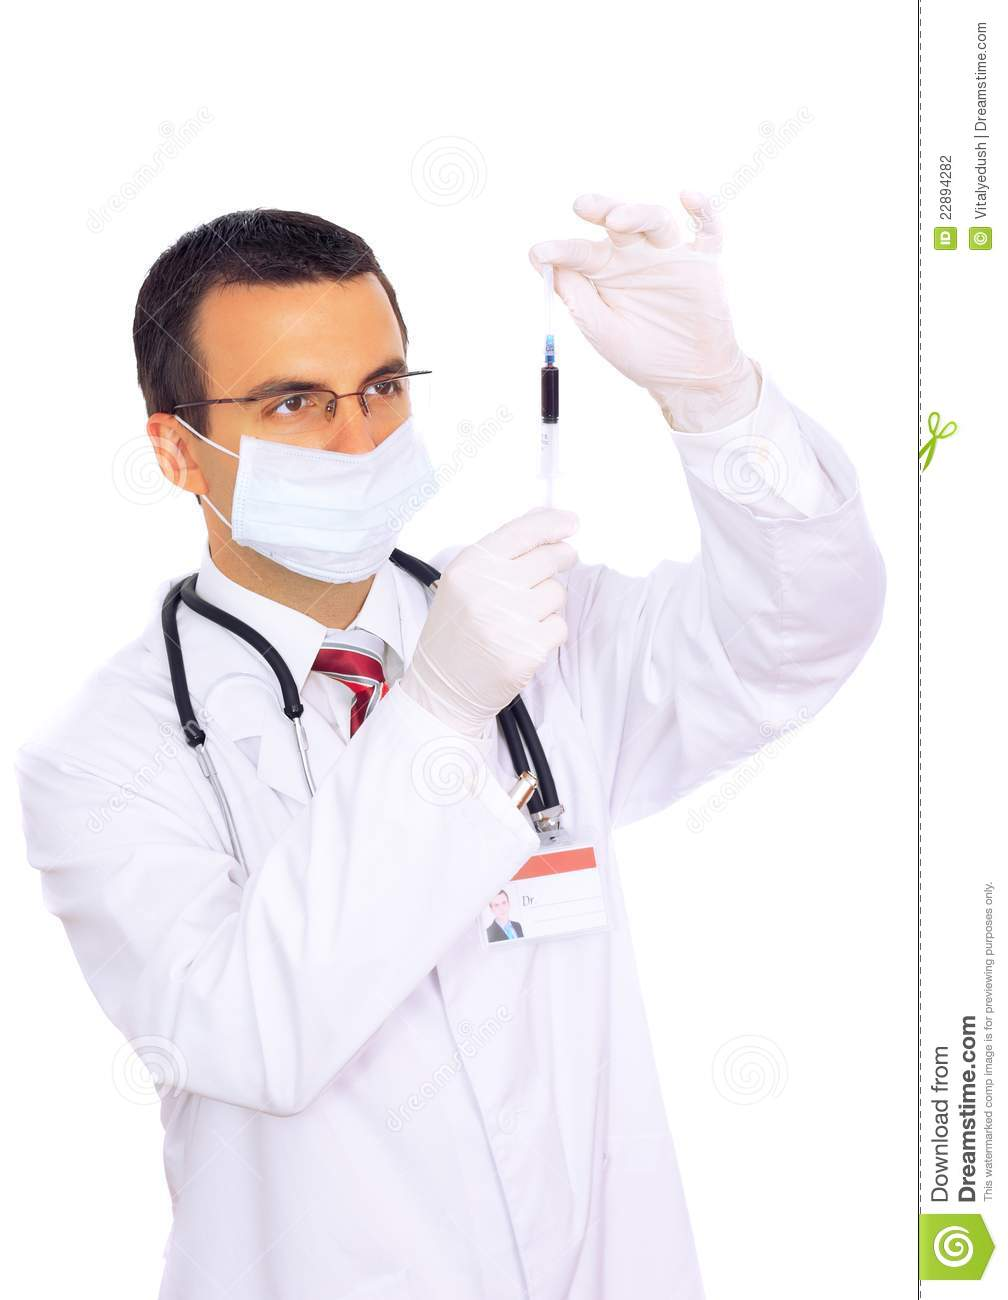mask: (220, 427, 456, 609)
